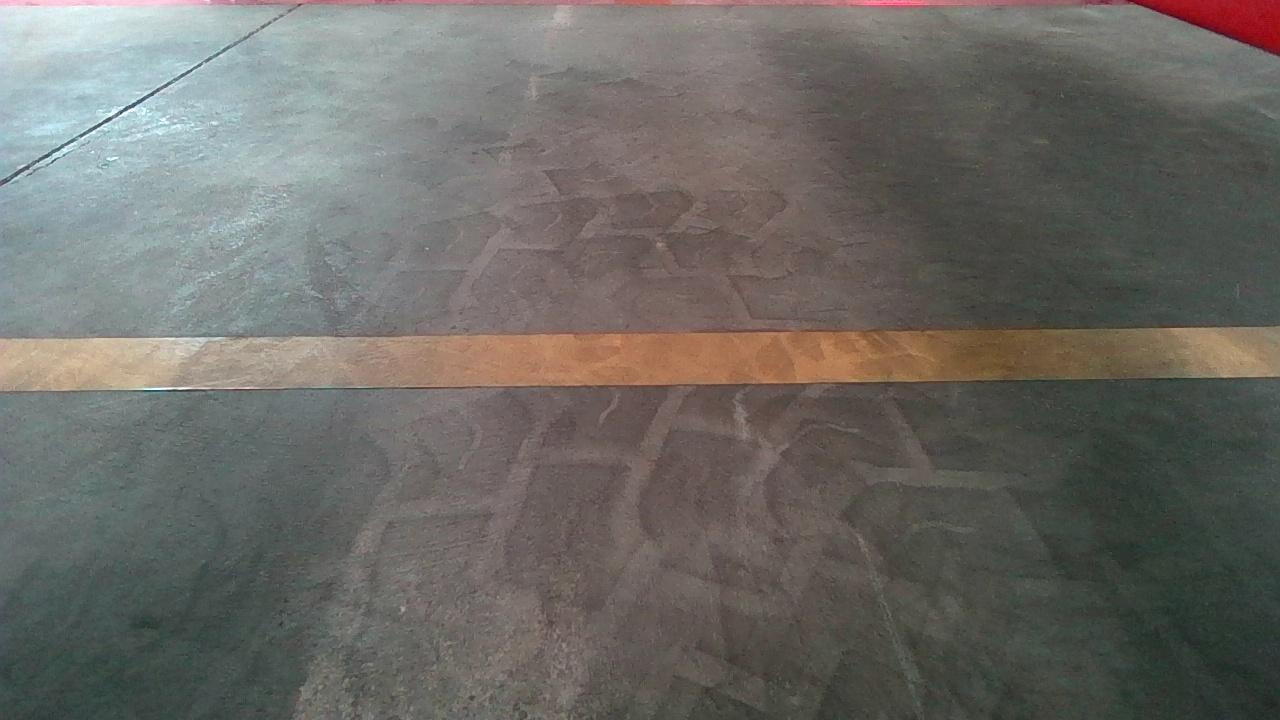yellow_line: (0, 322, 1260, 391)
